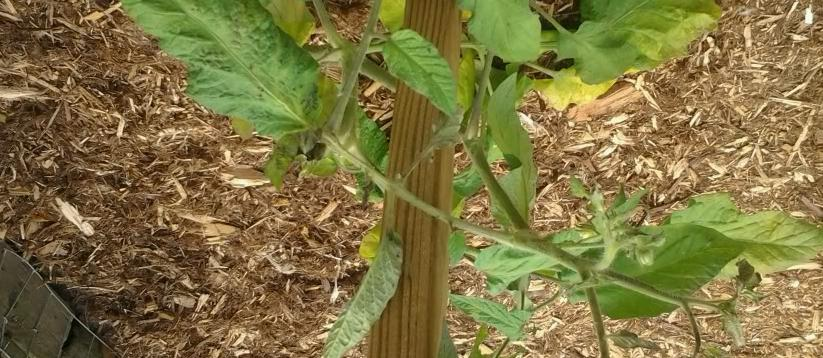Tomato leaf: (75, 0, 323, 141), (675, 194, 823, 276), (440, 0, 538, 84)
